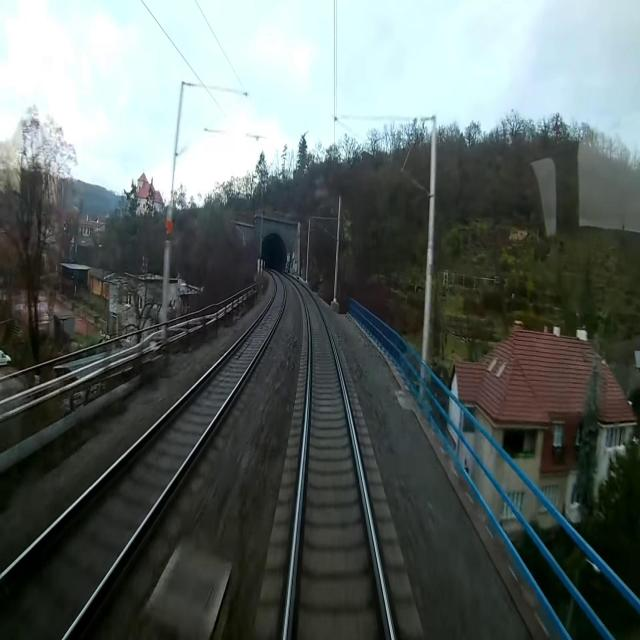rail-track: (0, 272, 284, 639), (287, 278, 391, 639)
